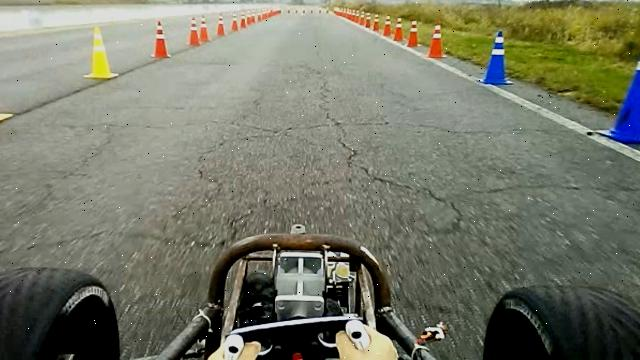blue cone: (597, 49, 640, 144), (478, 29, 514, 86)
red cone: (151, 20, 171, 58), (428, 23, 447, 58), (406, 20, 421, 48), (188, 16, 201, 46), (199, 14, 211, 42), (392, 17, 404, 41), (382, 13, 392, 37), (216, 13, 226, 36), (231, 14, 241, 34)
yellow cone: (84, 26, 119, 80), (0, 42, 13, 125)
